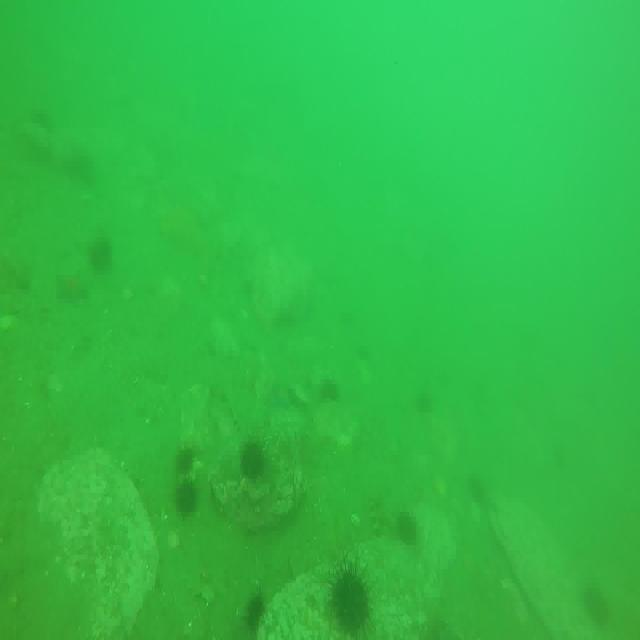echinus: (328, 561, 371, 631), (583, 585, 616, 637), (393, 506, 422, 545), (239, 594, 269, 630), (236, 438, 261, 478), (89, 234, 110, 276), (176, 484, 199, 513), (468, 474, 486, 508), (321, 377, 339, 405), (414, 391, 435, 414), (177, 446, 195, 472)
starfish: (56, 270, 90, 304)
